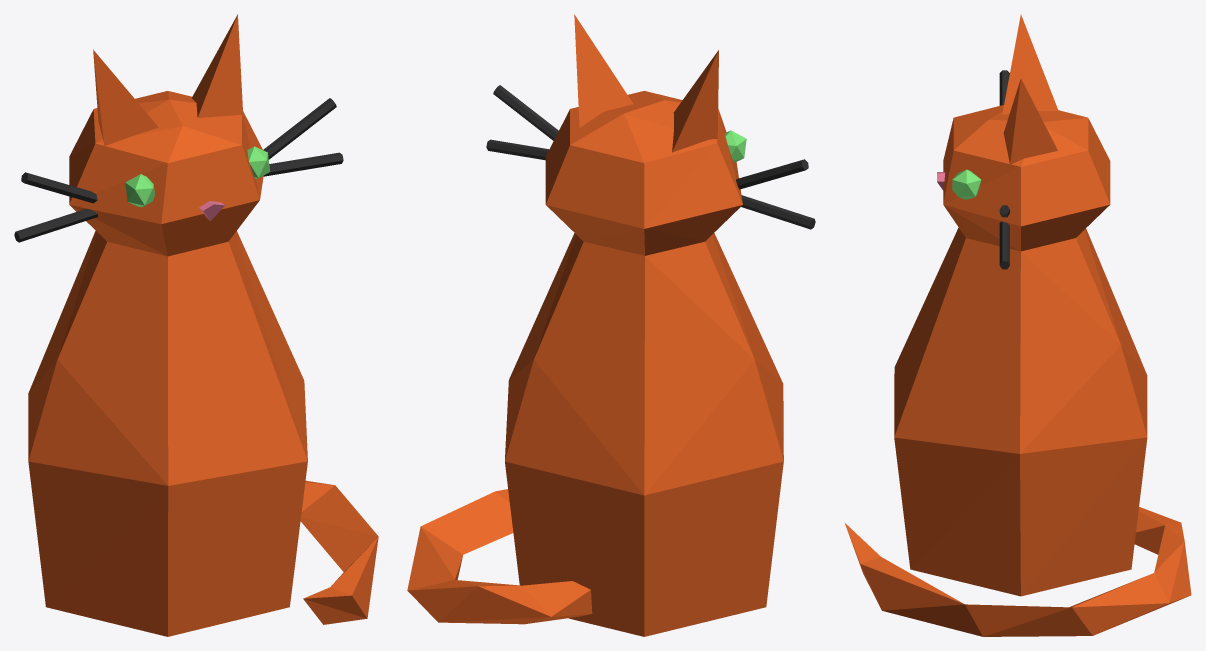
Rendered from Cat_Final.fbx.
3 views of the same model, side by side, from view 1: azimuth 30°, elevation 25°; view 2: azimuth 150°, elevation 25°; view 3: azimuth 270°, elevation 25° (orthographic). The views are drawn at different scales.
Parts seen in each view (by area): view 1: Cat; view 2: Cat; view 3: Cat.
Boxes of the visible parts, left/top/right/bottom form: Cat: left=14, top=14, right=378, bottom=636; Cat: left=407, top=14, right=815, bottom=636; Cat: left=845, top=14, right=1191, bottom=636.
Bounding box in the file's own units: 25.48 × 38.54 × 23.76.
